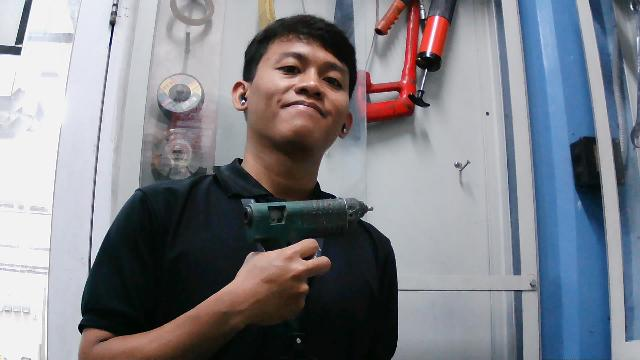gun_lem: (237, 191, 377, 309)
